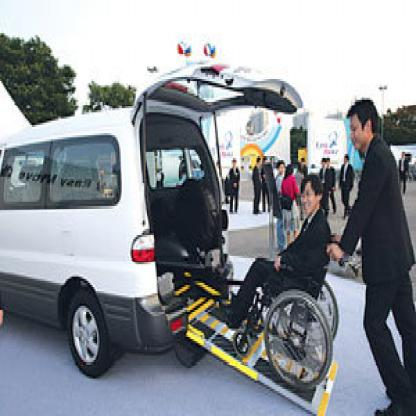wheelchair: (227, 175, 340, 391)
